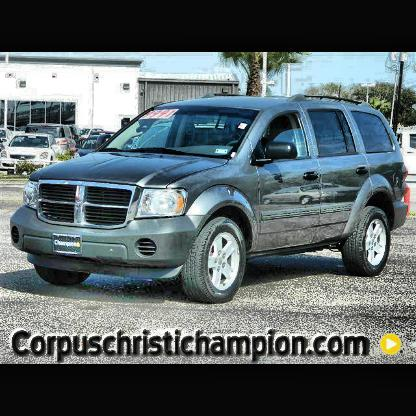Dodge Durango SUV 2007: (12, 96, 411, 304)
